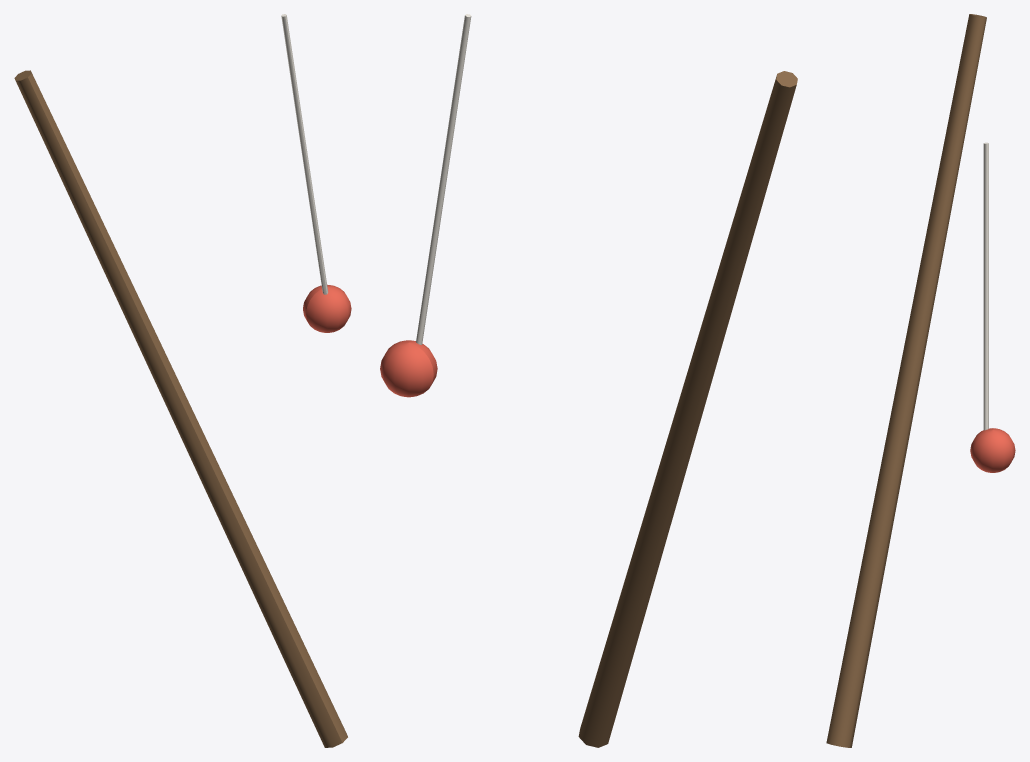
Rendered from rod.glb.
3 views of the same model, side by side, from view 1: azimuth 30°, elevation 25°; view 2: azimuth 150°, elevation 25°; view 3: azimuth 270°, elevation 25° (orthographic). The views are drawn at different scales.
Visible parts, largest first — view 1: rod; view 2: rod; view 3: rod.
Boxes of the visible parts, x1=… form: rod: x1=14, y1=14, x2=351, y2=747; rod: x1=380, y1=14, x2=797, y2=747; rod: x1=826, y1=14, x2=1015, y2=747.
Size of the model in its own units: 0.5653 by 1.07 by 0.2919.
